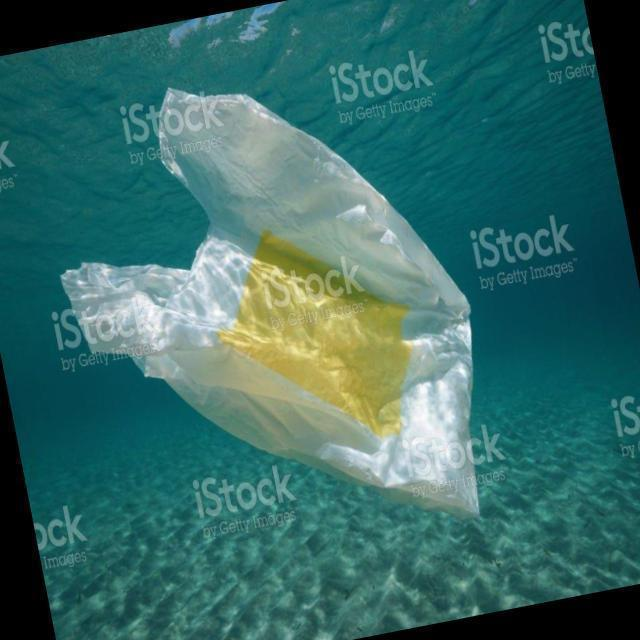Plastic_Bag: (37, 40, 510, 588)
